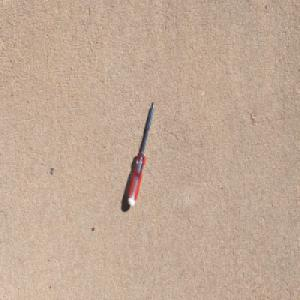Screwdriver: (127, 97, 155, 208)
